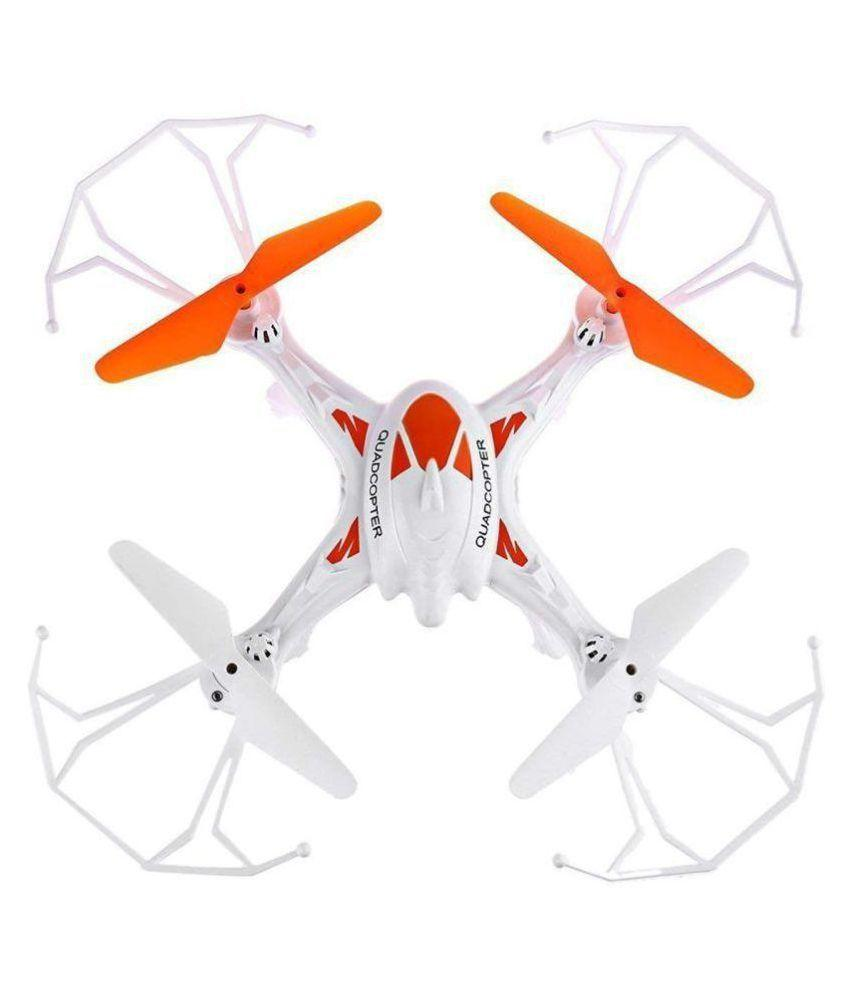drone: (36, 119, 823, 866)
